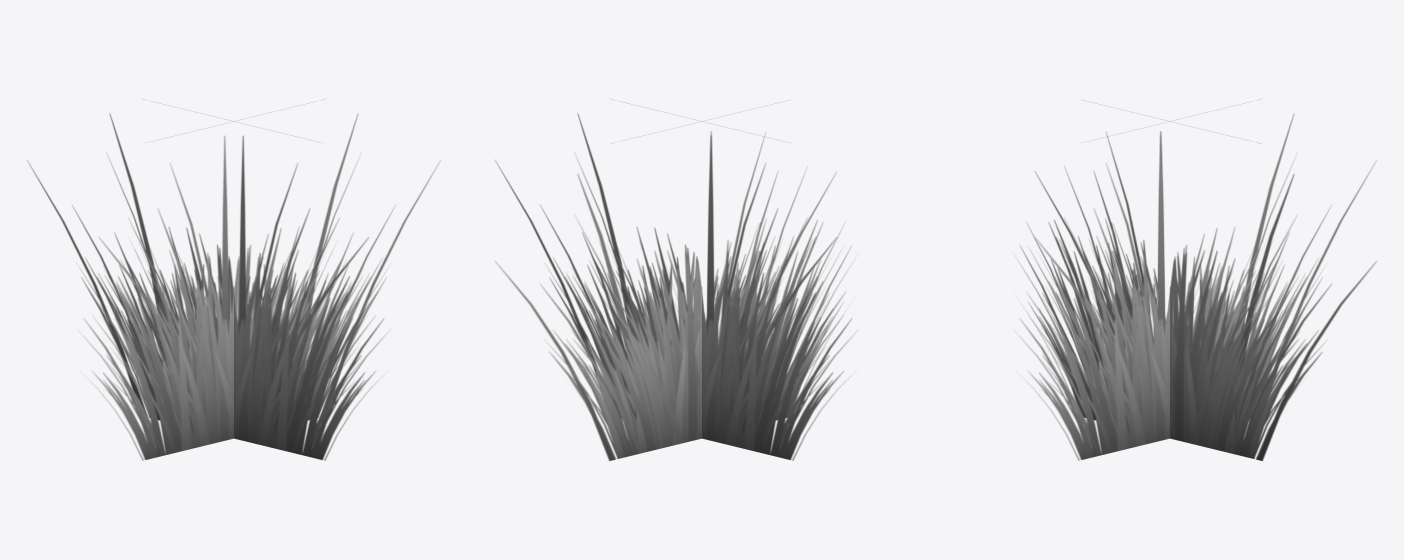
File: Blade_Lawn.glb
The picture shows the model from 3 angles, left to right: view 1: azimuth 30°, elevation 25°; view 2: azimuth 150°, elevation 25°; view 3: azimuth 270°, elevation 25°; orthographic projection.
Visible parts, largest first — view 1: Blade_Lawn; view 2: Blade_Lawn; view 3: Blade_Lawn.
Part boxes in pixels (left/top/right/bottom): Blade_Lawn: left=27, top=113, right=440, bottom=460; Blade_Lawn: left=495, top=113, right=854, bottom=460; Blade_Lawn: left=1017, top=113, right=1376, bottom=460.
Size of the model in its own units: 0.5199 by 0.3585 by 0.4502.
1 material, 1 textured.
